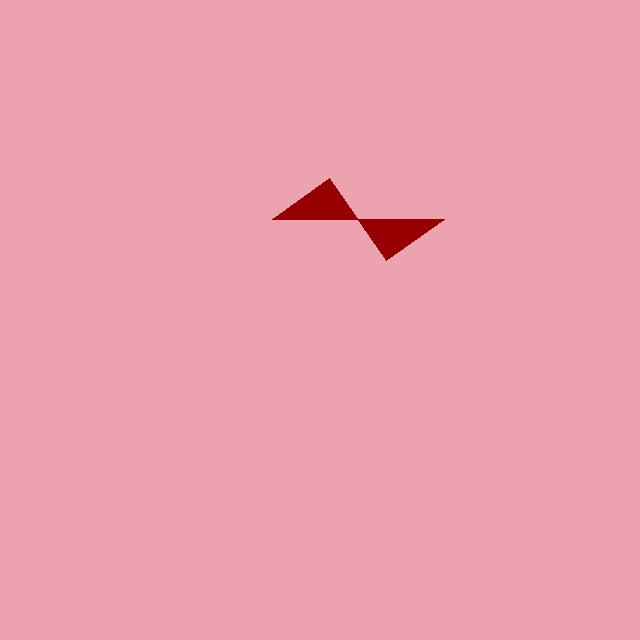laceration: (272, 178, 444, 260)
